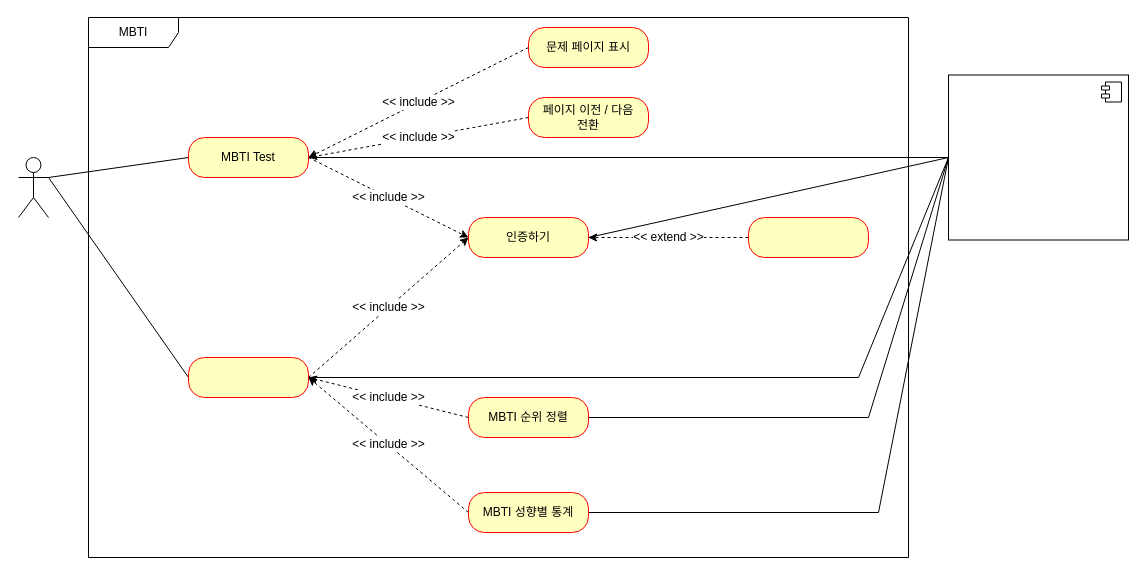
This 1146x575 diagram has some shape labels left out. Each missing label, with the centre of its shape:
DB: the point at 1038,157
MBTI 통계?: the point at 248,377
사용자: the point at 33,187
인증 실패: the point at 808,237
